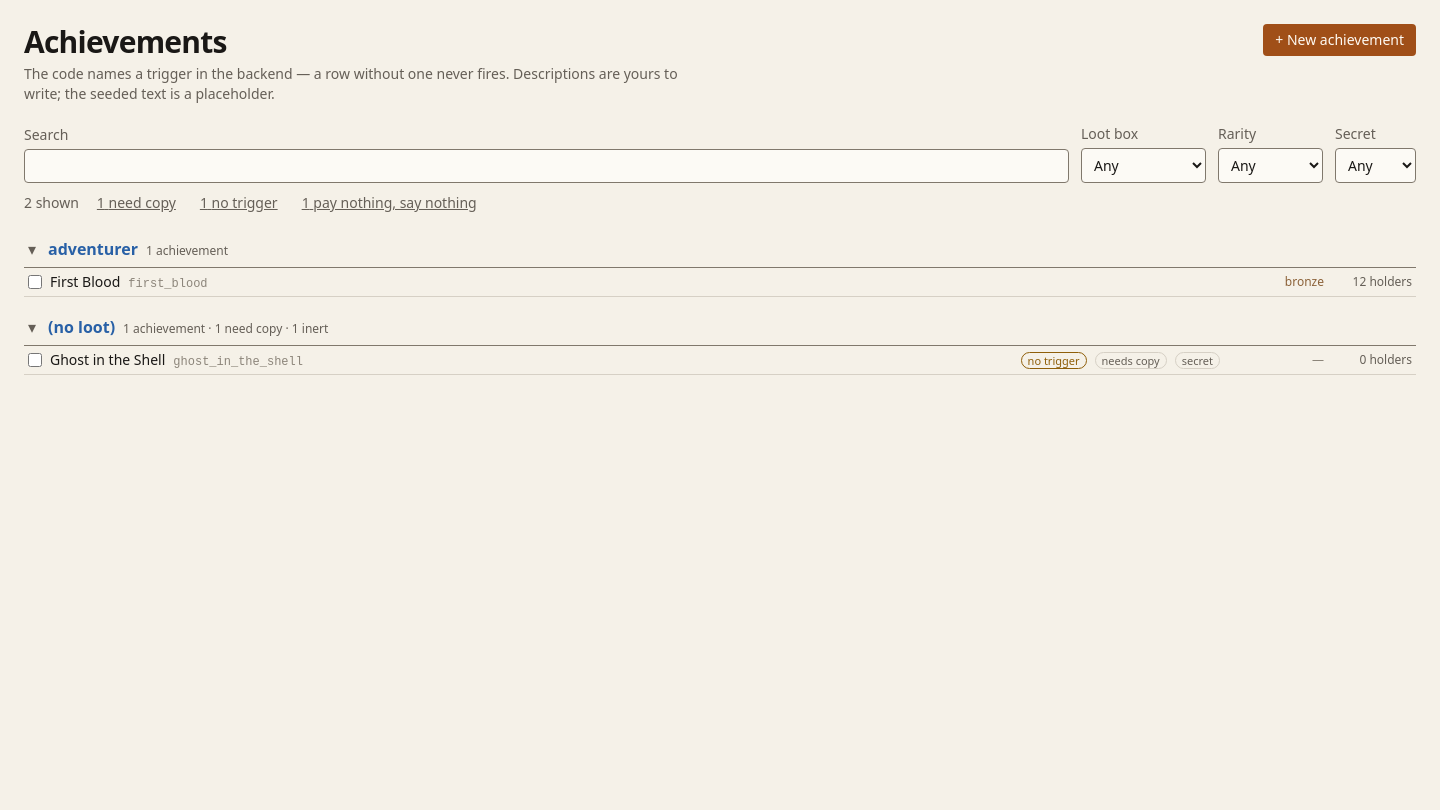
AdminAchievementsPage › leaves the code uneditable on an existing row
Click the button "First Blood" at (85, 282), box top-left (50, 272), bottom-right (1220, 292)
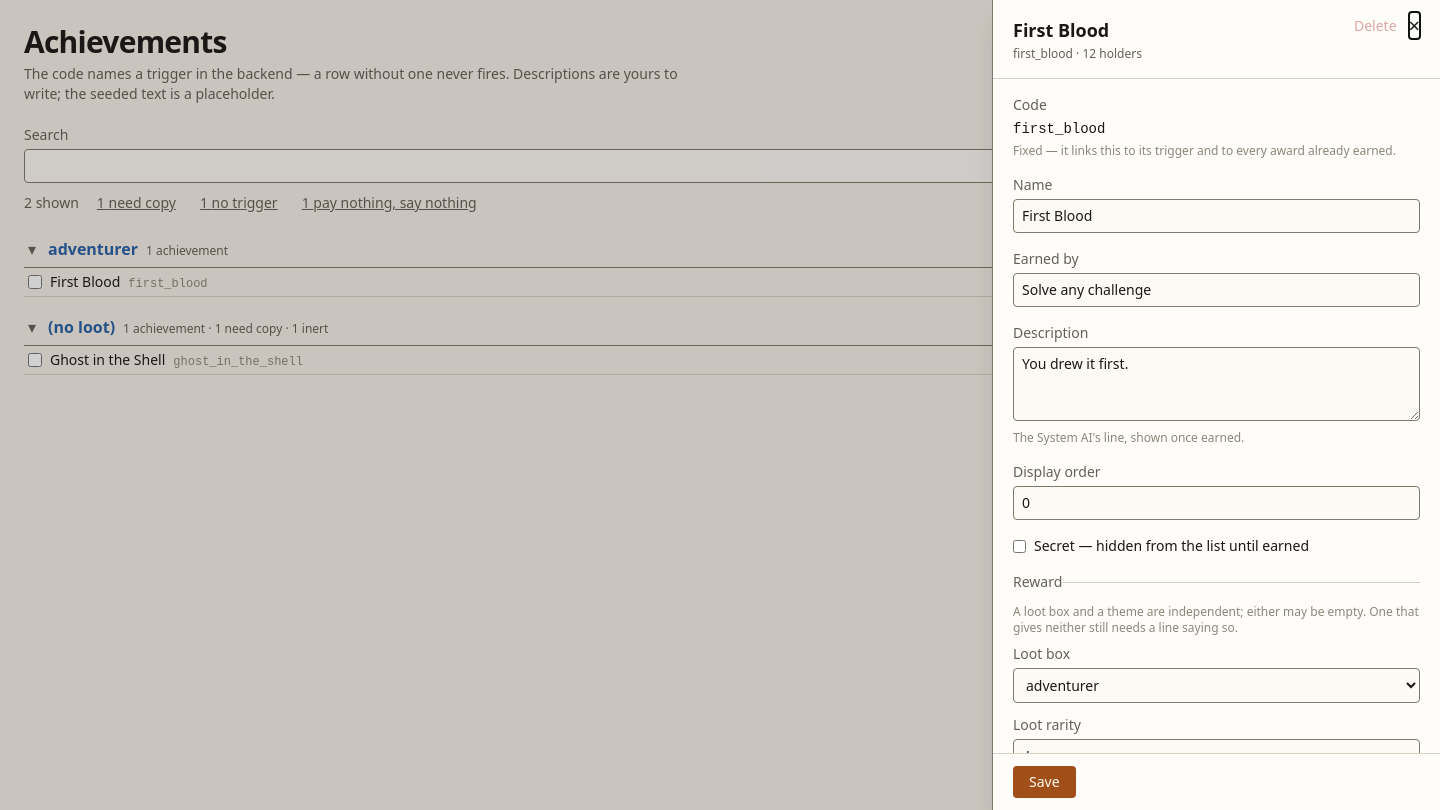
Result: the text "first_blood" is shown at top-left (1013, 121), bottom-right (1105, 137)
